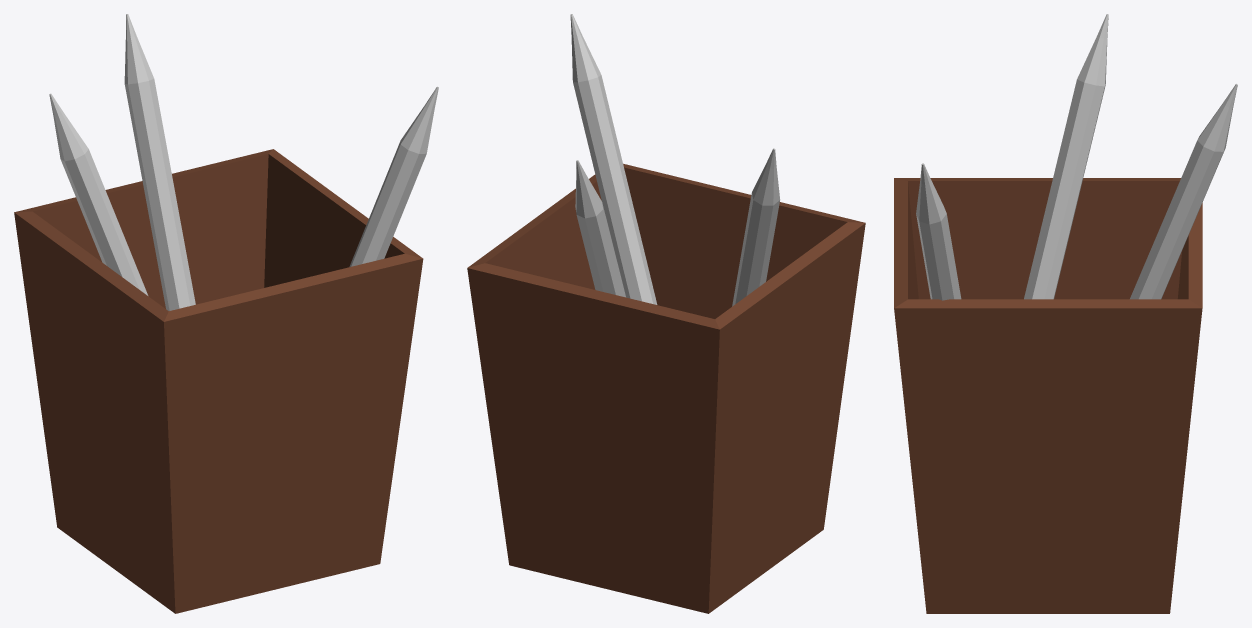
The model's file is pencil.fbx.
3 views of the same model, side by side, from view 1: azimuth 30°, elevation 25°; view 2: azimuth 150°, elevation 25°; view 3: azimuth 270°, elevation 25° (orthographic). The views are drawn at different scales.
Parts seen in each view (by area): view 1: Cube, Circle_001, Circle_000, Circle_002; view 2: Cube, Circle_002, Circle_000, Circle_001; view 3: Cube, Circle_000, Circle_001, Circle_002.
Boxes of the visible parts, x1,y1,x2,y2 form: Cube: [14, 149, 423, 613]; Circle_001: [124, 14, 195, 310]; Circle_000: [49, 93, 148, 295]; Circle_002: [349, 86, 438, 266]; Cube: [467, 163, 865, 613]; Circle_002: [570, 14, 657, 304]; Circle_000: [732, 148, 780, 306]; Circle_001: [575, 160, 625, 297]; Cube: [894, 178, 1202, 613]; Circle_000: [1024, 14, 1108, 299]; Circle_001: [1130, 83, 1237, 299]; Circle_002: [916, 163, 961, 300].
Size of the model in its own units: 1.9 by 2.82 by 1.84.
